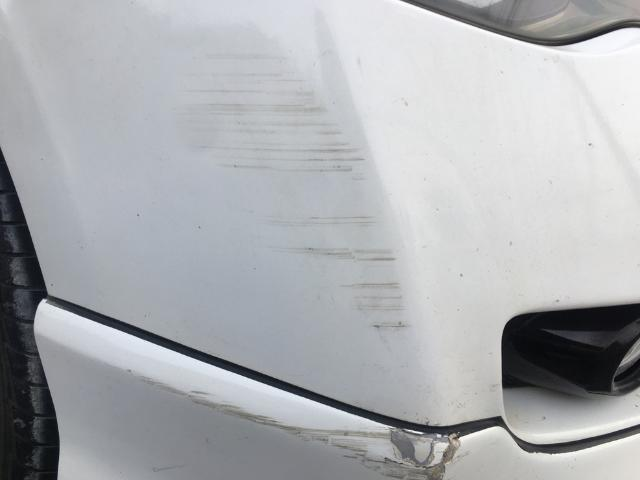Bumper: (157, 380, 529, 480)
Fender: (169, 9, 494, 397)
